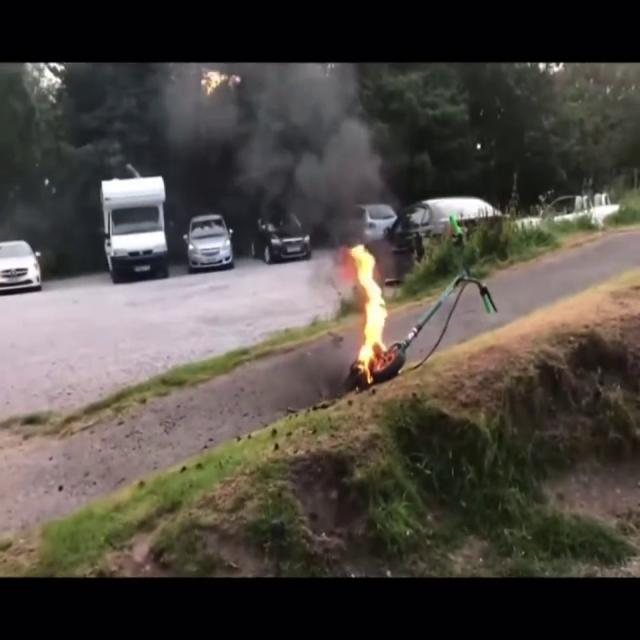Fire: (347, 238, 390, 377)
Smoke: (138, 64, 398, 232)
